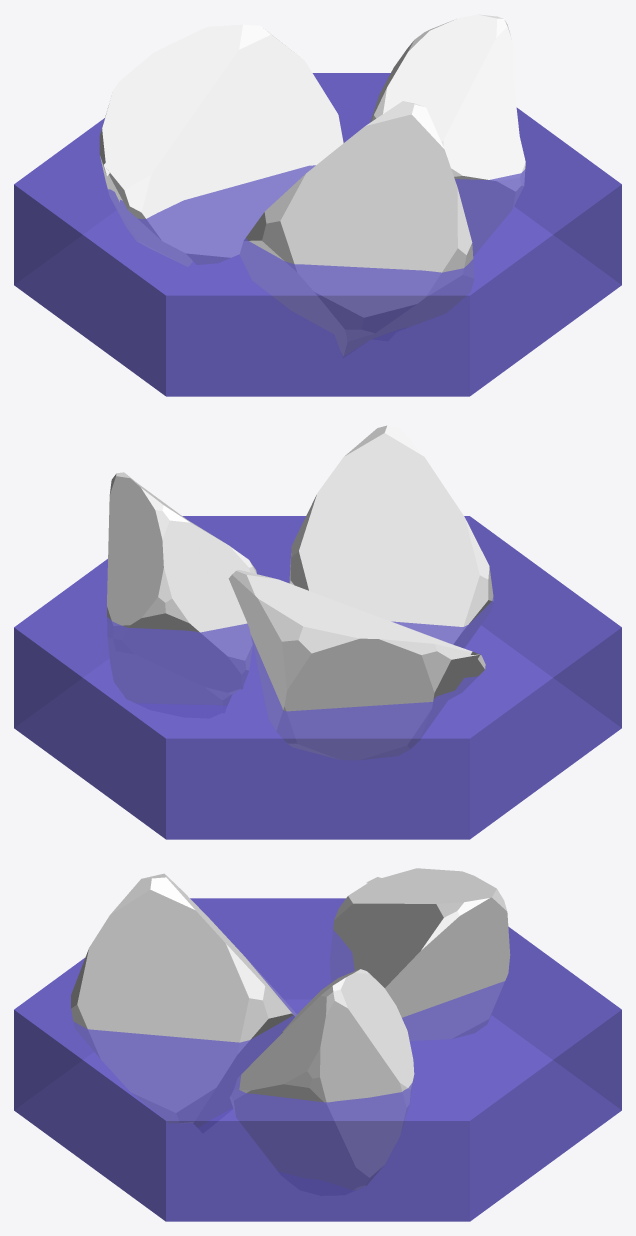
File: HexCell_Arctic_1.glb
3 renders of one model, top to bottom at view 1: azimuth 30°, elevation 25°; view 2: azimuth 150°, elevation 25°; view 3: azimuth 270°, elevation 25°, orthographic.
Parts seen in each view (by area): view 1: HexCell_Arctic_1; view 2: HexCell_Arctic_1; view 3: HexCell_Arctic_1.
Part boxes in pixels (x1,y1,x2,y2): HexCell_Arctic_1: (14, 14, 621, 396); HexCell_Arctic_1: (14, 425, 621, 839); HexCell_Arctic_1: (14, 868, 621, 1221).
Size of the model in its own units: 1.73 by 0.944 by 2.
